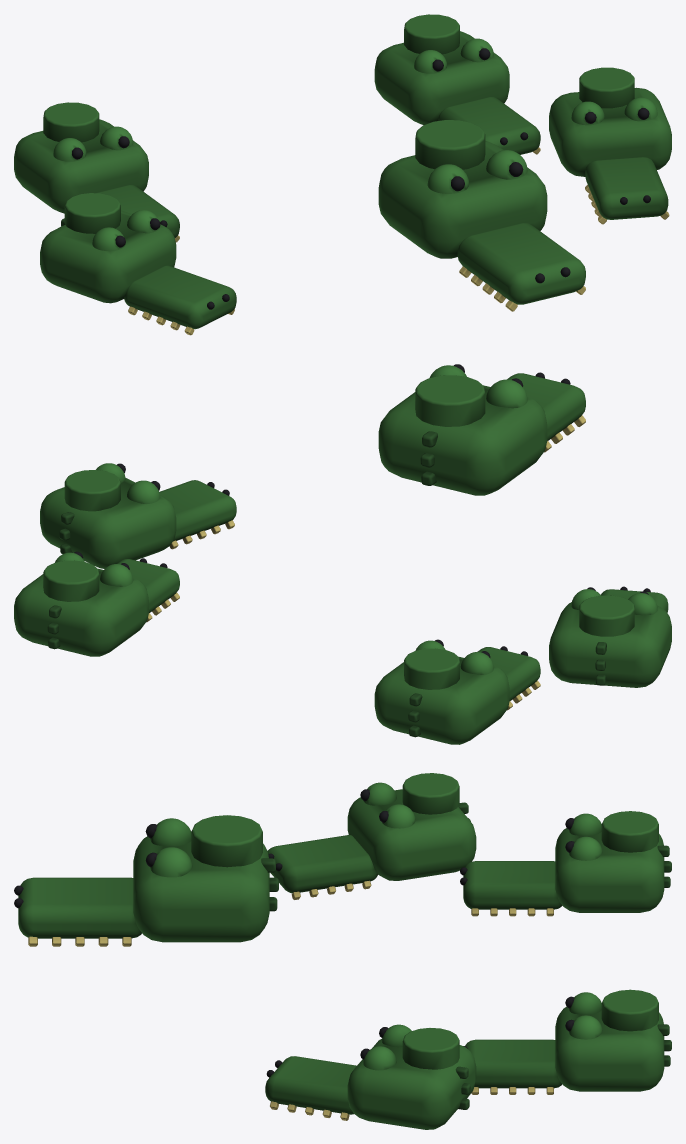
The model's file is gator-gang-lod0.glb.
The picture shows the model from 3 angles, top to bottom: view 1: azimuth 30°, elevation 25°; view 2: azimuth 150°, elevation 25°; view 3: azimuth 270°, elevation 25°; orthographic projection.
Parts seen in each view (by area): view 1: cap_hat, att3_hat, att2_hat, att0_hat, att1_hat; view 2: cap_hat, att2_hat, att0_hat, att1_hat, att3_hat; view 3: cap_hat, att3_hat, att1_hat, att2_hat, att0_hat.
Part boxes in pixels (bbox=[...]): cap_hat: bbox=[378, 120, 585, 311]; att3_hat: bbox=[40, 193, 236, 335]; att2_hat: bbox=[549, 67, 671, 224]; att0_hat: bbox=[374, 14, 540, 154]; att1_hat: bbox=[14, 102, 179, 242]; cap_hat: bbox=[378, 364, 585, 495]; att2_hat: bbox=[40, 463, 236, 568]; att0_hat: bbox=[14, 551, 179, 656]; att1_hat: bbox=[374, 639, 540, 744]; att3_hat: bbox=[549, 586, 671, 687]; cap_hat: bbox=[14, 815, 278, 946]; att3_hat: bbox=[267, 773, 476, 899]; att1_hat: bbox=[460, 811, 671, 916]; att2_hat: bbox=[265, 1024, 476, 1129]; att0_hat: bbox=[463, 989, 671, 1094].
Bounding box in the file's own units: 2.12 × 0.526 × 1.93.
